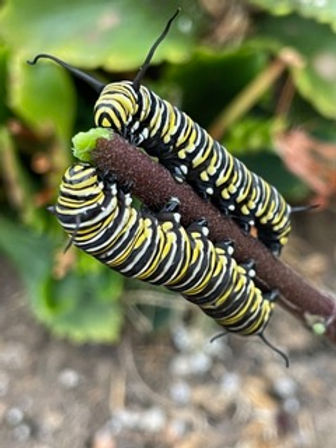Caterpillar: (26, 11, 309, 255), (46, 159, 293, 368)
